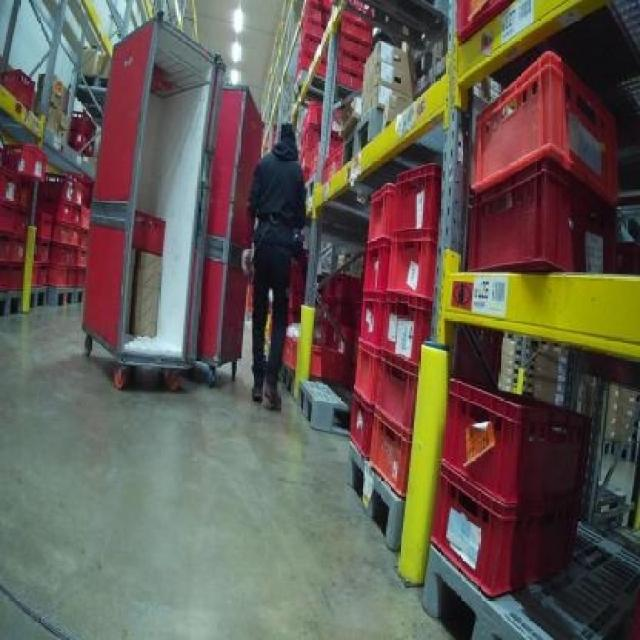pallets: (397, 249, 637, 637), (82, 18, 260, 383), (349, 162, 438, 528), (466, 49, 614, 269)
